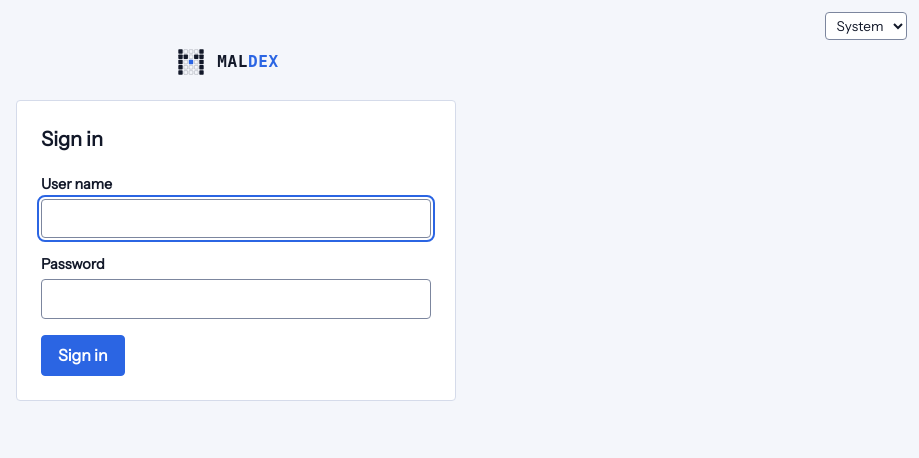
Test: LoginPage › login 401 {"error":"invalid"} shows Wrong user name or password.
Type "pat" into the field labelled "User name" at {"x": 236, "y": 219}, box [41,199,431,238]
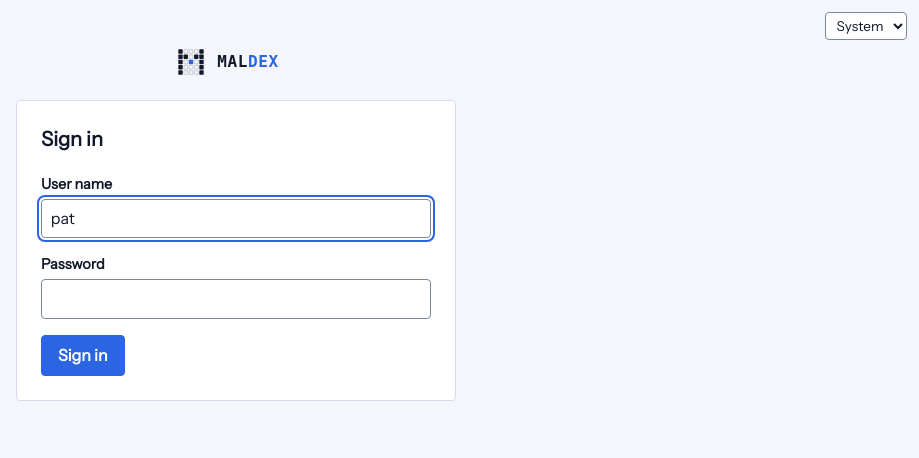
Type "hunter2hunter2" into the password field labelled "Password" at {"x": 236, "y": 299}, box [41,279,431,319]
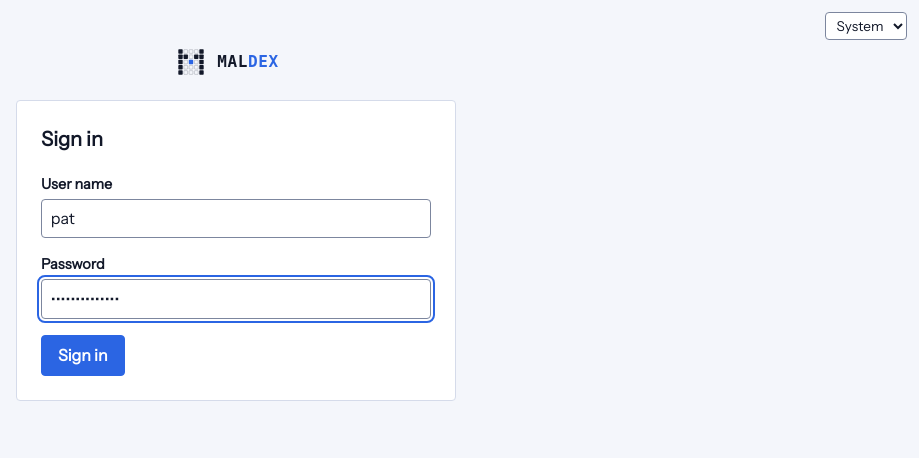
Click the button "Sign in" at {"x": 83, "y": 356}, box [41,335,124,376]
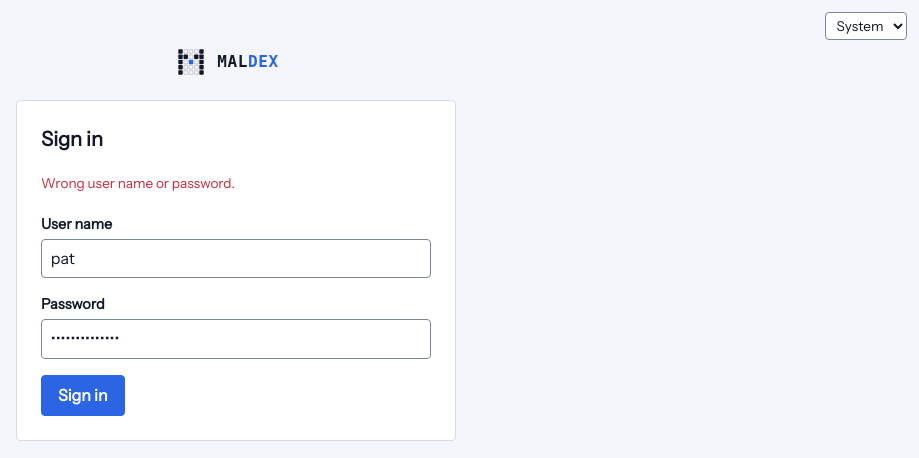
Result: the message reads "Wrong user name or password." at [41,175,235,191]
